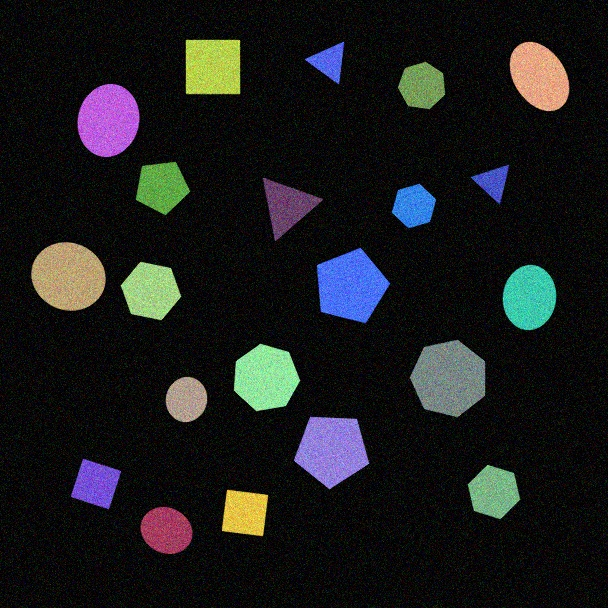Circulo: (30, 241, 107, 312), (140, 506, 193, 555), (165, 376, 208, 423)
Elipse: (77, 83, 140, 158), (509, 41, 570, 112), (502, 264, 557, 331)
Heptagono: (409, 339, 486, 418), (233, 343, 301, 412), (397, 61, 446, 110)
Hexagono: (120, 261, 182, 321), (467, 464, 521, 520), (391, 183, 437, 229)
Pentagono: (316, 247, 391, 324), (293, 416, 370, 490), (135, 161, 191, 216)
Quadrado: (185, 39, 241, 95), (70, 458, 122, 510), (221, 489, 269, 537)
Triangulo: (262, 177, 324, 242), (305, 41, 345, 85), (471, 164, 510, 205)
